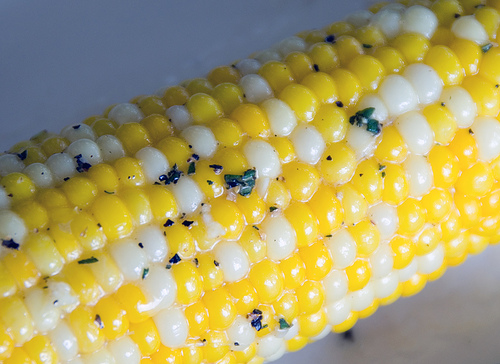corn: (0, 2, 499, 363)
